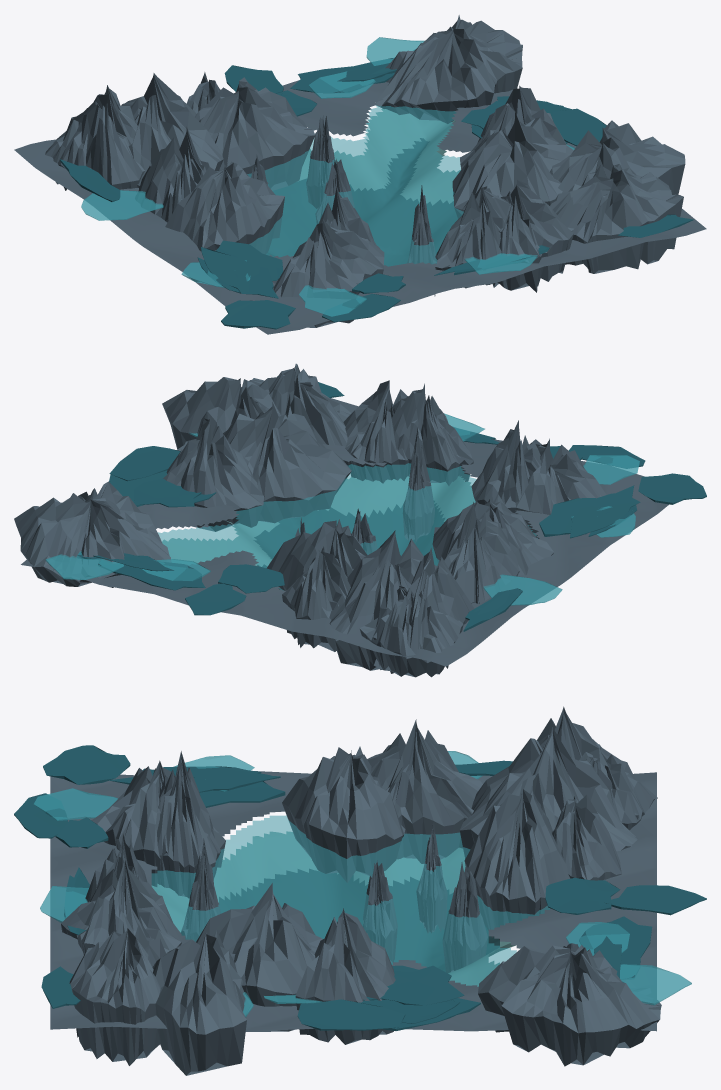
The model's file is water_tile_00.glb.
The picture shows the model from 3 angles, top to bottom: view 1: azimuth 30°, elevation 25°; view 2: azimuth 150°, elevation 25°; view 3: azimuth 270°, elevation 25°; orthographic projection. The views are drawn at different scales.
Parts seen in each view (by area): view 1: glacial water surface 00, single continuous dark slate shoreline, angular fractured shoreline ledge.005, angular fractured shoreline ledge.011, angular fractured shoreline ledge.003, submerged mineral riverbed, angular fractured shoreline ledge.015, visible shallow mineral shelves, angular fractured shoreline ledge.007, angular fractured shoreline ledge.012, angular fractured shoreline ledge.006, angular fractured shoreline ledge.010 (+31 smaller); view 2: single continuous dark slate shoreline, glacial water surface 00, angular fractured shoreline ledge.005, angular fractured shoreline ledge.007, visible shallow mineral shelves, angular fractured shoreline ledge.004, angular fractured shoreline ledge.001, angular fractured shoreline ledge.009, angular fractured shoreline ledge.002, angular fractured shoreline ledge.013, angular fractured shoreline ledge.006, angular fractured shoreline ledge.010 (+27 smaller); view 3: glacial water surface 00, single continuous dark slate shoreline, angular fractured shoreline ledge.005, angular fractured shoreline ledge.015, angular fractured shoreline ledge.006, angular fractured shoreline ledge.003, angular fractured shoreline ledge.011, angular fractured shoreline ledge.013, angular fractured shoreline ledge.007, submerged mineral riverbed, angular fractured shoreline ledge.001, visible shallow mineral shelves (+32 smaller).
Part boxes in pixels (box(x1,y1,x2,y2)): glacial water surface 00: box(247, 105, 463, 266); single continuous dark slate shoreline: box(14, 80, 706, 334); angular fractured shoreline ledge.005: box(375, 15, 522, 123); angular fractured shoreline ledge.011: box(550, 164, 683, 273); angular fractured shoreline ledge.003: box(195, 77, 314, 190); submerged mineral riverbed: box(266, 138, 457, 266); angular fractured shoreline ledge.015: box(165, 161, 284, 254); visible shallow mineral shelves: box(298, 108, 460, 205); angular fractured shoreline ledge.007: box(452, 111, 573, 218); angular fractured shoreline ledge.012: box(272, 219, 384, 327); angular fractured shoreline ledge.006: box(550, 120, 685, 194); angular fractured shoreline ledge.010: box(492, 180, 573, 292); single continuous dark slate shoreline: box(21, 398, 668, 666); glacial water surface 00: box(158, 463, 537, 590); angular fractured shoreline ledge.005: box(14, 481, 170, 587); angular fractured shoreline ledge.007: box(223, 402, 351, 523); visible shallow mineral shelves: box(162, 476, 474, 566); angular fractured shoreline ledge.004: box(163, 418, 264, 531); angular fractured shoreline ledge.001: box(329, 530, 436, 673); angular fractured shoreline ledge.009: box(389, 383, 473, 485); angular fractured shoreline ledge.002: box(359, 586, 463, 677); angular fractured shoreline ledge.013: box(444, 502, 519, 603); angular fractured shoreline ledge.006: box(162, 377, 281, 449); angular fractured shoreline ledge.010: box(343, 380, 408, 483); glacial water surface 00: box(151, 815, 549, 986); single continuous dark slate shoreline: box(50, 771, 656, 1031); angular fractured shoreline ledge.005: box(478, 943, 661, 1066); angular fractured shoreline ledge.015: box(282, 746, 405, 882); angular fractured shoreline ledge.006: box(152, 930, 251, 1075); angular fractured shoreline ledge.003: box(464, 789, 570, 939); angular fractured shoreline ledge.011: box(69, 924, 165, 1065); angular fractured shoreline ledge.013: box(367, 719, 482, 863); angular fractured shoreline ledge.007: box(196, 883, 322, 1031); submerged mineral riverbed: box(219, 868, 499, 971); angular fractured shoreline ledge.001: box(459, 727, 637, 858); visible shallow mineral shelves: box(151, 831, 515, 986).
Bounding box in the file's own units: 1.16 × 0.3627 × 1.14.
